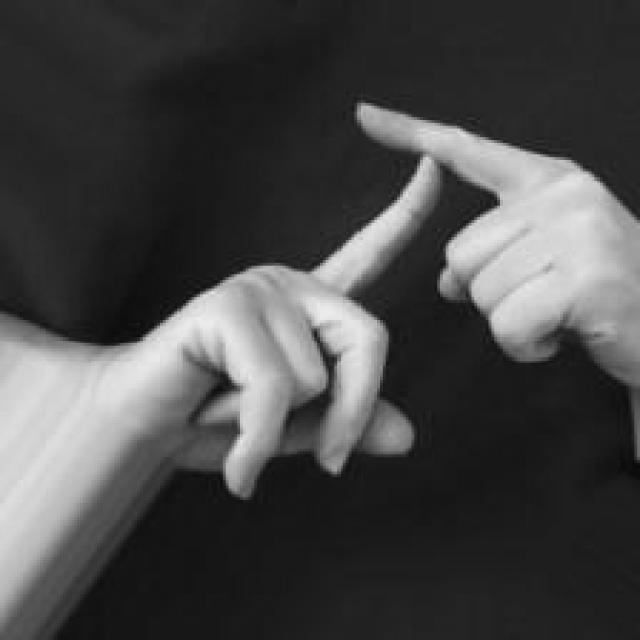T: (143, 94, 640, 500)
